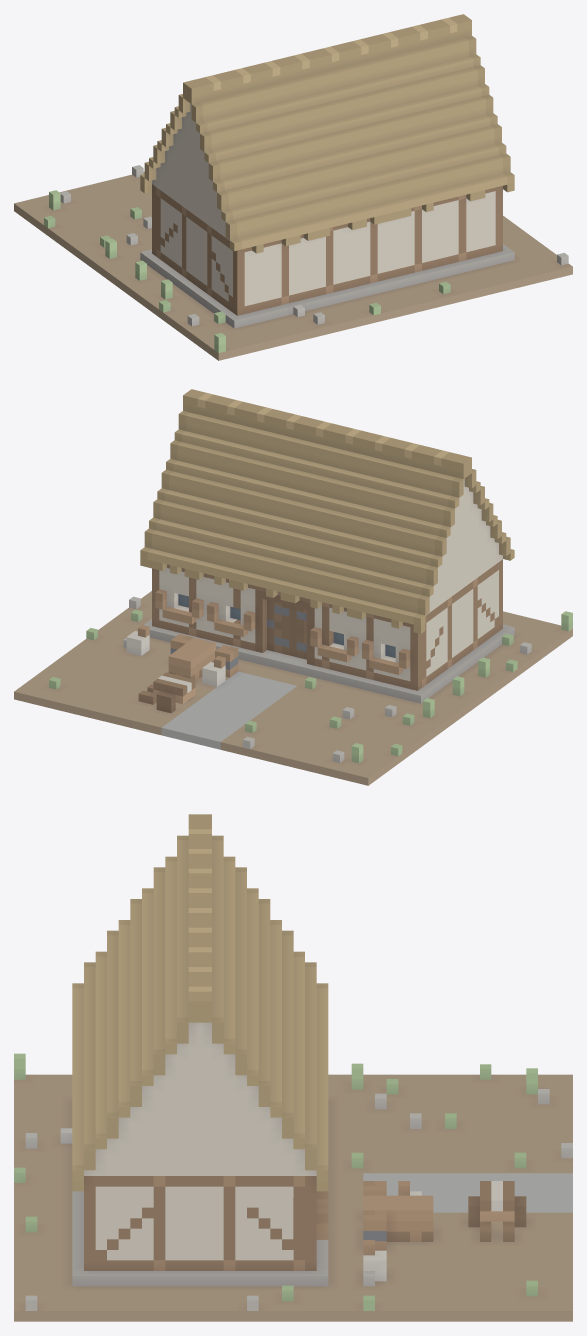
The model's file is warehouse.l1.glb.
The picture shows the model from 3 angles, top to bottom: view 1: azimuth 30°, elevation 25°; view 2: azimuth 150°, elevation 25°; view 3: azimuth 270°, elevation 25°; orthographic projection. The views are drawn at different scales.
Parts seen in each view (by area): view 1: warehouse; view 2: warehouse; view 3: warehouse.
Part boxes in pixels (left/top/right/bottom): warehouse: left=14, top=14, right=572, bottom=360; warehouse: left=14, top=389, right=572, bottom=785; warehouse: left=14, top=814, right=572, bottom=1321.
Size of the model in its own units: 6 by 3.5 by 6.
